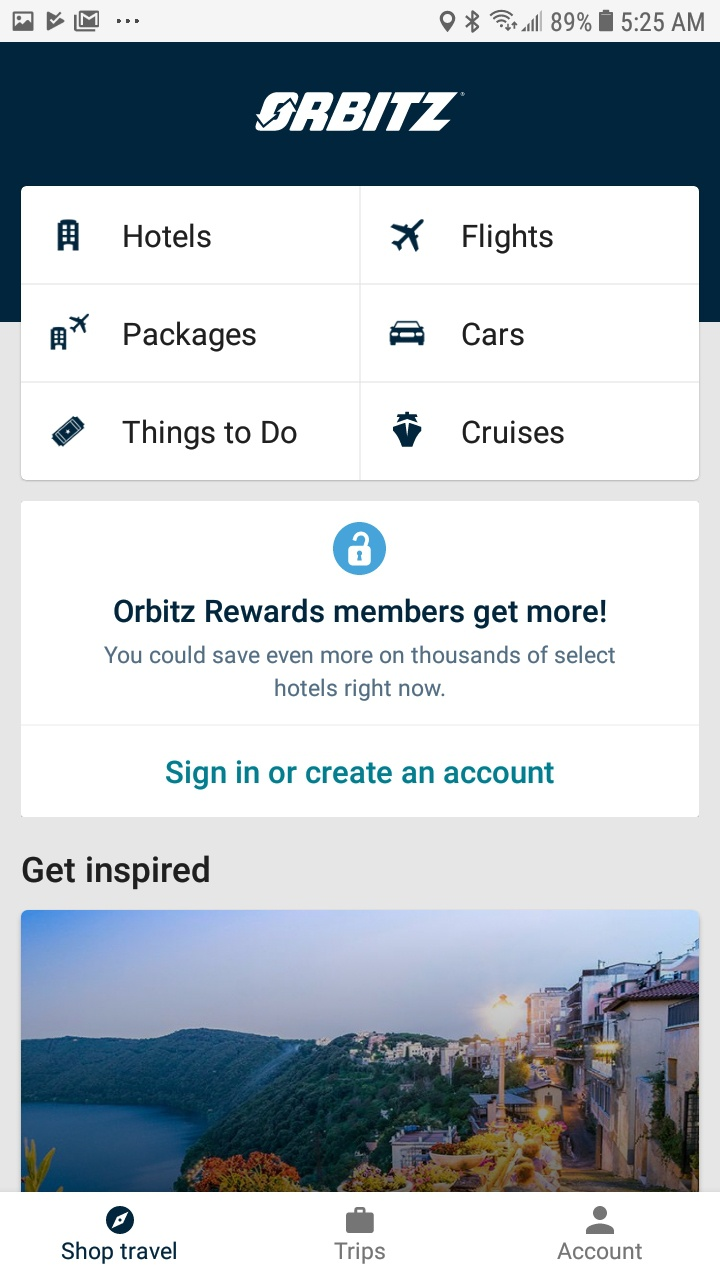Icon: (333, 521, 387, 576), (51, 415, 86, 448), (106, 1205, 135, 1234), (586, 1205, 615, 1234), (346, 1206, 375, 1233)
Image: (21, 910, 699, 1192), (255, 92, 466, 133), (50, 313, 91, 351), (390, 219, 425, 253), (392, 411, 423, 448), (388, 321, 426, 347), (58, 219, 81, 252)
Text: (104, 644, 616, 702), (114, 597, 606, 630), (166, 759, 555, 791), (23, 854, 211, 891), (122, 418, 298, 451), (124, 321, 257, 353), (463, 222, 554, 255), (63, 1240, 178, 1264), (462, 419, 565, 445), (124, 223, 212, 250), (557, 1241, 643, 1260), (462, 322, 525, 347), (334, 1241, 386, 1264)
UpperTaskBar: (1, 1, 720, 43)
